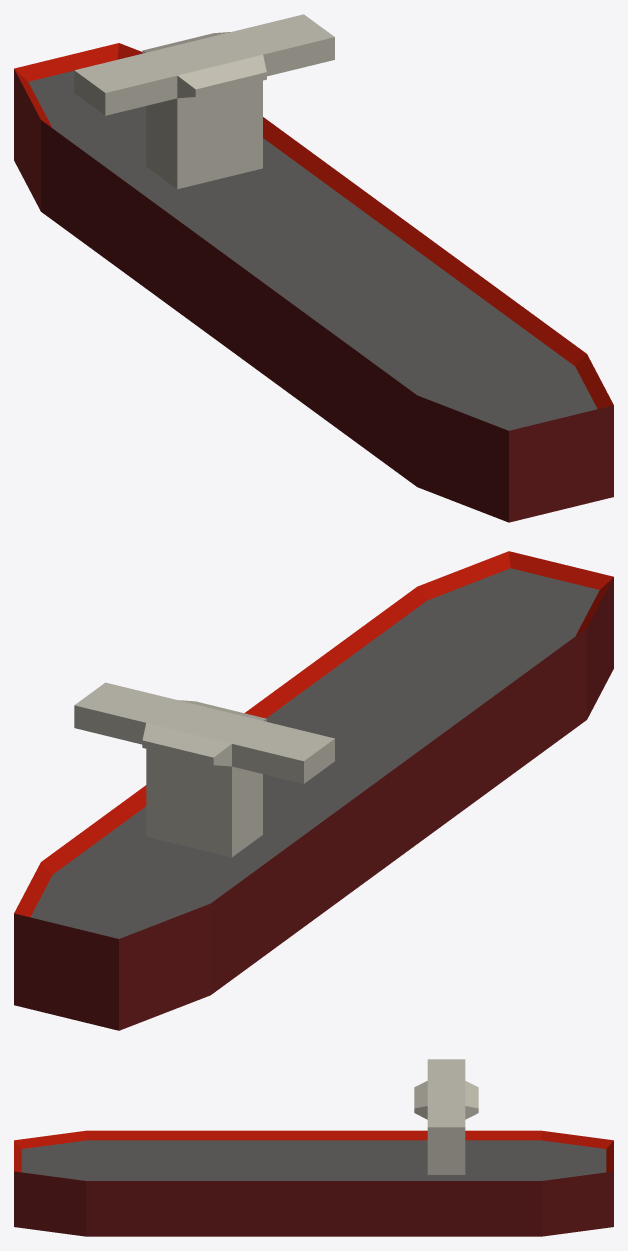
File: ContainerShip.FBX
3 renders of one model, top to bottom at view 1: azimuth 30°, elevation 25°; view 2: azimuth 150°, elevation 25°; view 3: azimuth 270°, elevation 25°, orthographic. The views are drawn at different scales.
Visible parts, largest first — view 1: ContainerShip; view 2: ContainerShip; view 3: ContainerShip.
Boxes of the visible parts, x1,y1,x2,y2 form: ContainerShip: [14, 14, 613, 522]; ContainerShip: [14, 551, 613, 1030]; ContainerShip: [14, 1059, 613, 1236].
Size of the model in its own units: 21.11 by 17.14 by 78.86.
